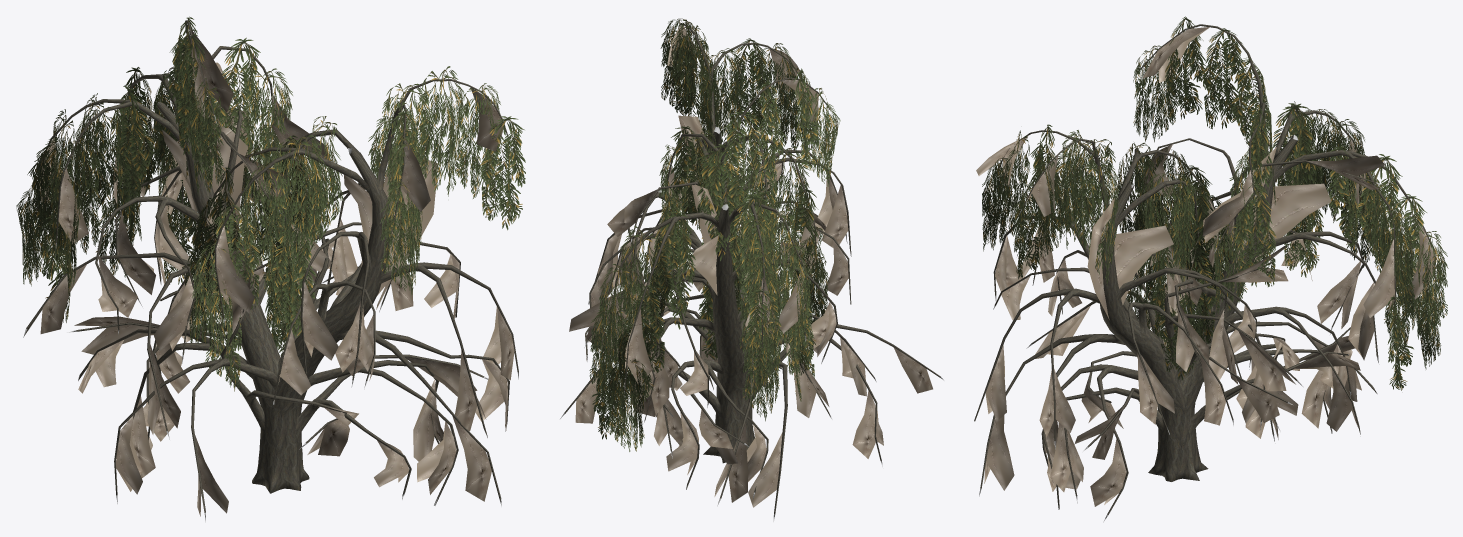
The model's file is MarshWillow_6.fbx.
3 views of the same model, side by side, from view 1: azimuth 30°, elevation 25°; view 2: azimuth 150°, elevation 25°; view 3: azimuth 270°, elevation 25° (orthographic). The views are drawn at different scales.
Parts seen in each view (by area): view 1: MarshWillow_6; view 2: MarshWillow_6; view 3: MarshWillow_6.
Boxes of the visible parts, x1,y1,x2,y2 form: MarshWillow_6: [16, 16, 525, 522]; MarshWillow_6: [560, 18, 944, 521]; MarshWillow_6: [974, 16, 1448, 522].
Size of the model in its own units: 30.36 by 39.35 by 38.69.
